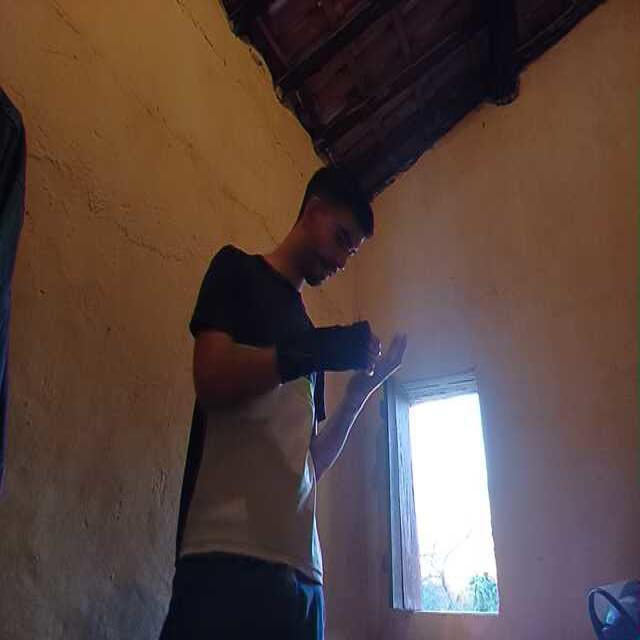capacete: (584, 574, 640, 640)
pessoa: (178, 164, 405, 640)
